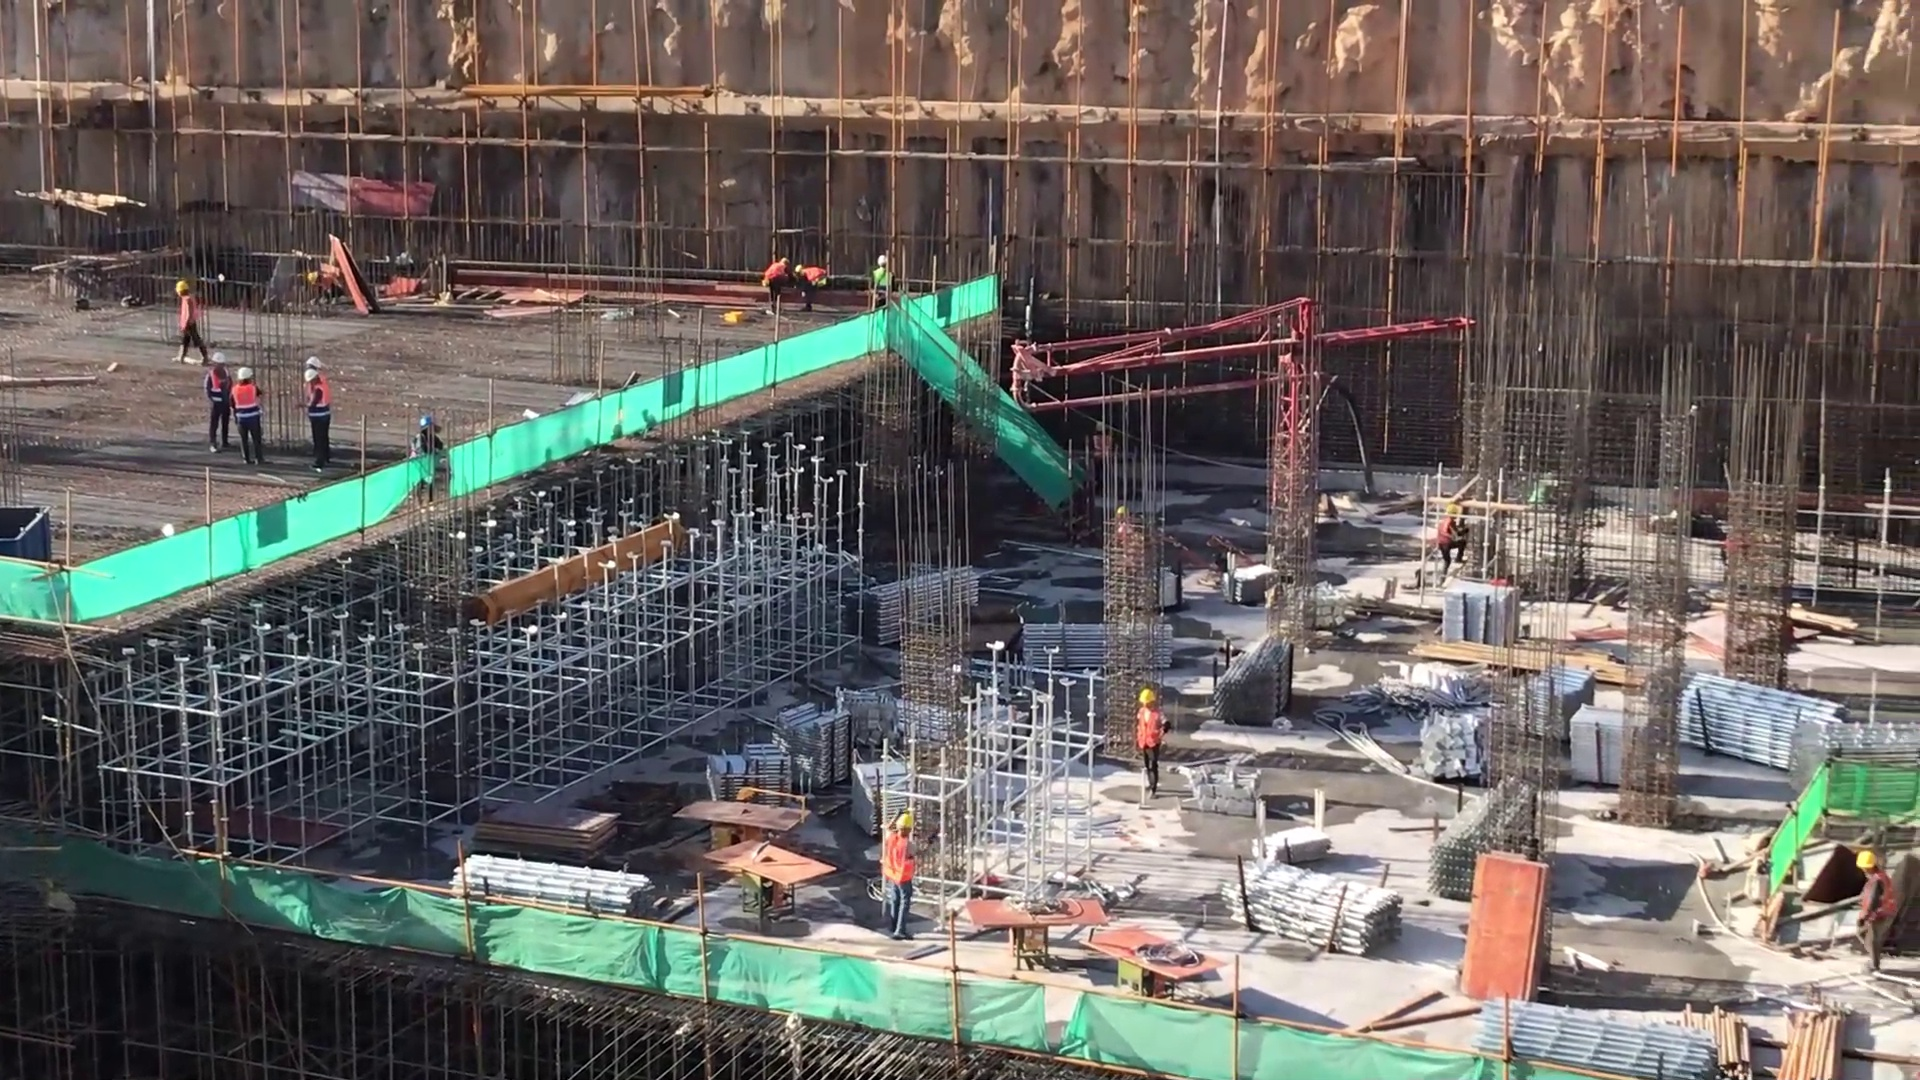board: (1460, 851, 1554, 1000), (470, 804, 621, 868)
brick: (1422, 702, 1491, 785)
cutter: (698, 829, 841, 936), (1084, 919, 1228, 1019), (966, 881, 1105, 977), (676, 797, 817, 865)
helmet: (1856, 845, 1883, 874), (898, 811, 915, 842), (1135, 688, 1161, 707), (414, 419, 440, 434), (306, 351, 324, 369), (1093, 418, 1111, 436), (177, 279, 194, 299), (236, 369, 257, 384), (304, 372, 323, 388), (876, 251, 890, 268), (211, 353, 225, 368), (1442, 504, 1457, 516), (794, 264, 803, 272)
hopper: (1, 499, 63, 597)
person: (878, 817, 924, 939), (1855, 849, 1893, 975), (1133, 683, 1171, 804), (233, 370, 271, 469), (168, 280, 210, 368), (300, 371, 336, 471), (203, 353, 235, 453), (412, 418, 445, 505), (1433, 507, 1466, 583), (1085, 421, 1116, 502), (869, 252, 901, 318), (795, 263, 828, 314), (762, 256, 790, 315), (307, 269, 348, 308)
scaffold: (1682, 669, 1920, 765), (1476, 997, 1723, 1080), (1229, 845, 1398, 949), (452, 846, 654, 926), (838, 558, 996, 651), (1205, 634, 1290, 737), (1025, 622, 1177, 671), (770, 700, 854, 789), (711, 742, 798, 819), (1516, 664, 1596, 743)
vest: (1859, 872, 1894, 929), (883, 831, 917, 885), (1135, 706, 1166, 752), (233, 384, 264, 422), (304, 384, 333, 421), (208, 368, 233, 402), (1434, 516, 1456, 547)
